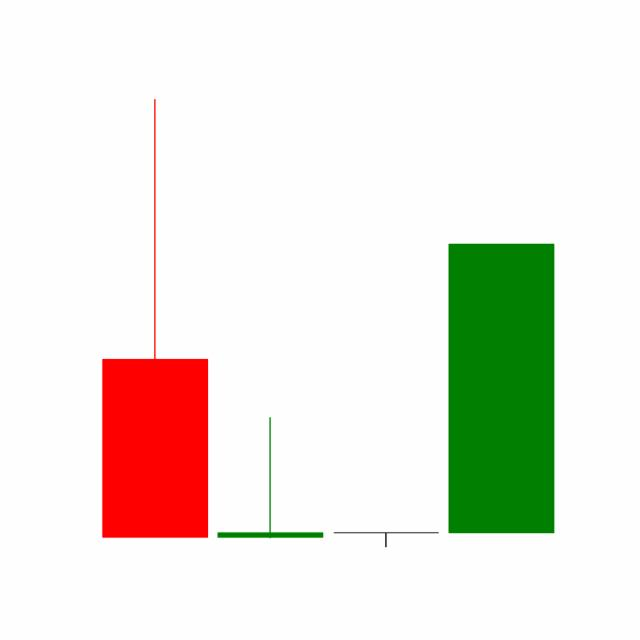Hammer: (328, 531, 444, 547)
